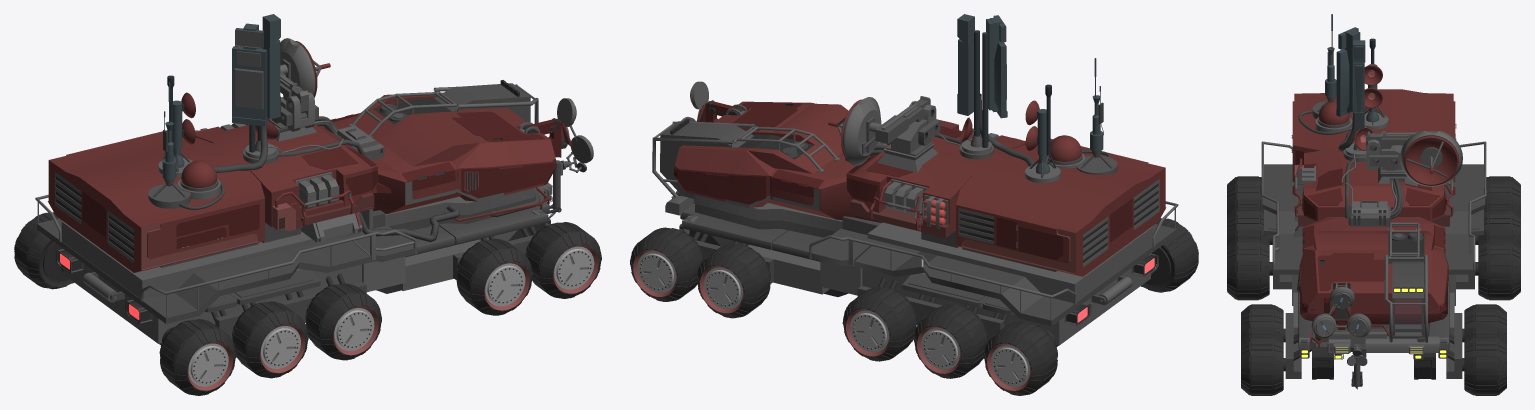
File: moon_rover.glb
3 renders of one model, left to right at view 1: azimuth 30°, elevation 25°; view 2: azimuth 150°, elevation 25°; view 3: azimuth 270°, elevation 25°, orthographic. The views are drawn at different scales.
Visible parts, largest first — view 1: Cube, Cube.019, Cylinder.163, Cube.005, Cube.016, Cube.055, Cylinder.160, Cylinder.161, Cylinder.162, Cylinder.001, Cube.003, Cube.027 (+35 smaller); view 2: Cube, Cube.019, Cylinder.163, Cube.016, Cube.005, Cylinder.160, Cylinder.161, Cylinder.162, Cylinder.001, Cube.055, Cube.003, Cube.026 (+36 smaller); view 3: Cube.003, Cube.019, Cylinder.161, Cylinder.001, Cube, Cube.005, Cylinder.160, Cylinder.162, Cube.013, Cylinder.163, Cube.055, Cube.129 (+40 smaller).
Part boxes in pixels (x1,y1,x2,y2): Cube: (48,130,264,272); Cube.019: (37,218,417,323); Cylinder.163: (14,212,236,395); Cube.005: (195,124,377,227); Cube.016: (61,221,353,299); Cube.055: (350,94,479,166); Cylinder.160: (456,238,532,315); Cylinder.161: (305,283,381,360); Cylinder.162: (232,301,308,378); Cylinder.001: (525,222,601,298); Cube.003: (412,92,555,201); Cube.027: (63,250,361,343); Cube: (956,139,1166,276); Cube.019: (808,224,1176,326); Cylinder.163: (984,218,1198,395); Cube.016: (867,222,1152,302); Cube.005: (846,119,1025,232); Cylinder.160: (696,243,770,318); Cylinder.161: (842,287,916,361); Cylinder.162: (914,304,987,378); Cylinder.001: (630,227,703,301); Cube.055: (748,103,848,173); Cube.003: (674,101,814,207); Cube.026: (680,204,823,261); Cube.003: (1300,247,1447,324); Cube.019: (1262,164,1485,274); Cylinder.161: (1227,237,1520,300); Cylinder.001: (1241,333,1506,395); Cube: (1292,89,1455,182); Cube.005: (1301,147,1446,221); Cylinder.160: (1241,304,1506,340); Cylinder.162: (1227,206,1520,245); Cube.013: (1392,261,1424,338); Cylinder.163: (1227,176,1520,214); Cube.055: (1314,231,1433,252); Cube.129: (1317,253,1384,290).
Bounding box in the file's own units: 21.39 × 12.48 × 13.2.
